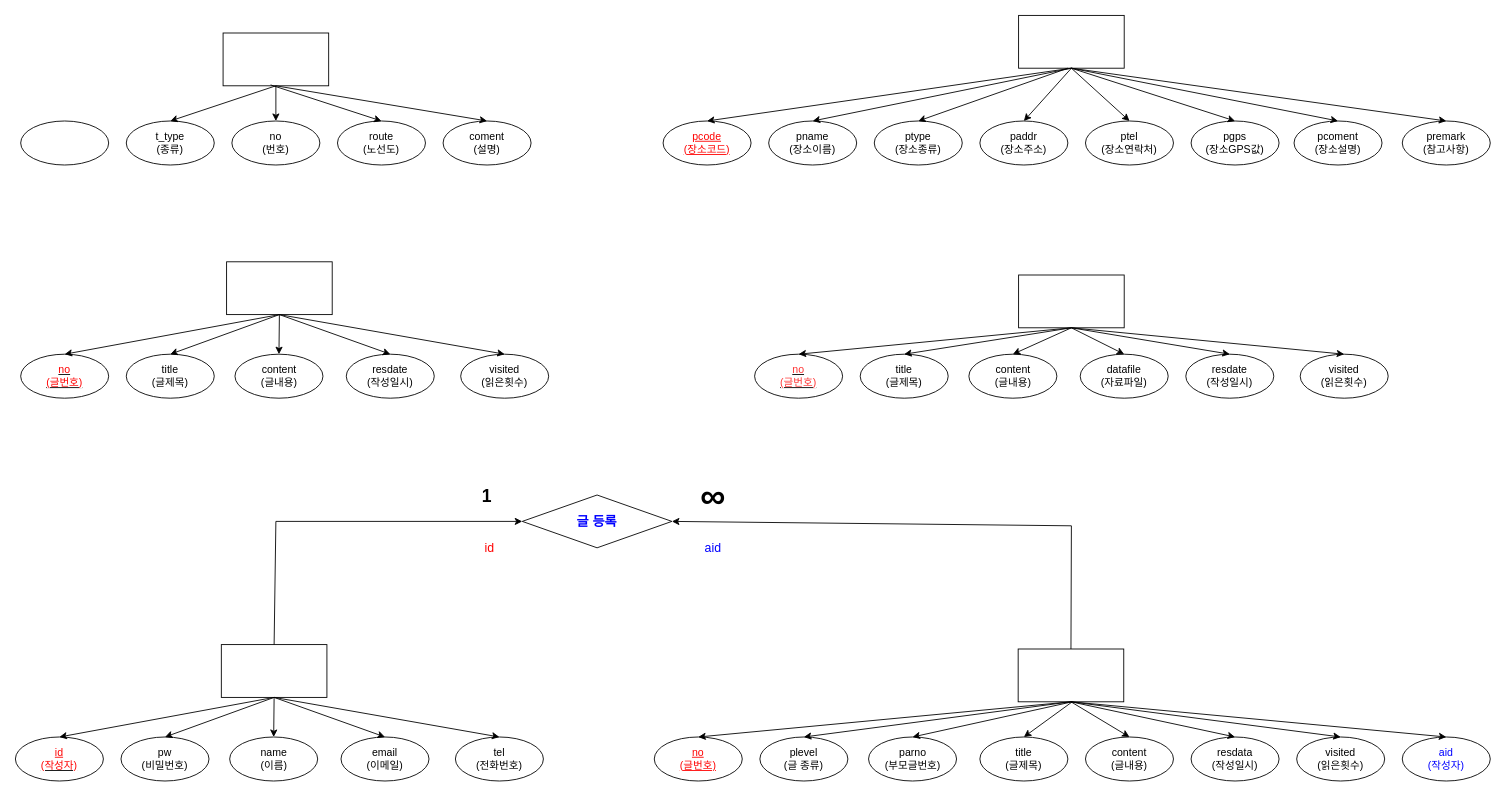
This 1506x796 diagram has some shape labels left out. Each missing label, with the centre of its shape:
"data (자료실)" goes at point 1071,301.
"guide (안내사항)" goes at point 1071,41.
"member (멤버)" goes at point 273,670.
"notice (공지사항)" goes at point 279,288.
"qna (묻고 답하기)" goes at point 1070,675.
"tno (연번)" goes at point 64,142.
"traffic (교통편)" goes at point 275,59.
